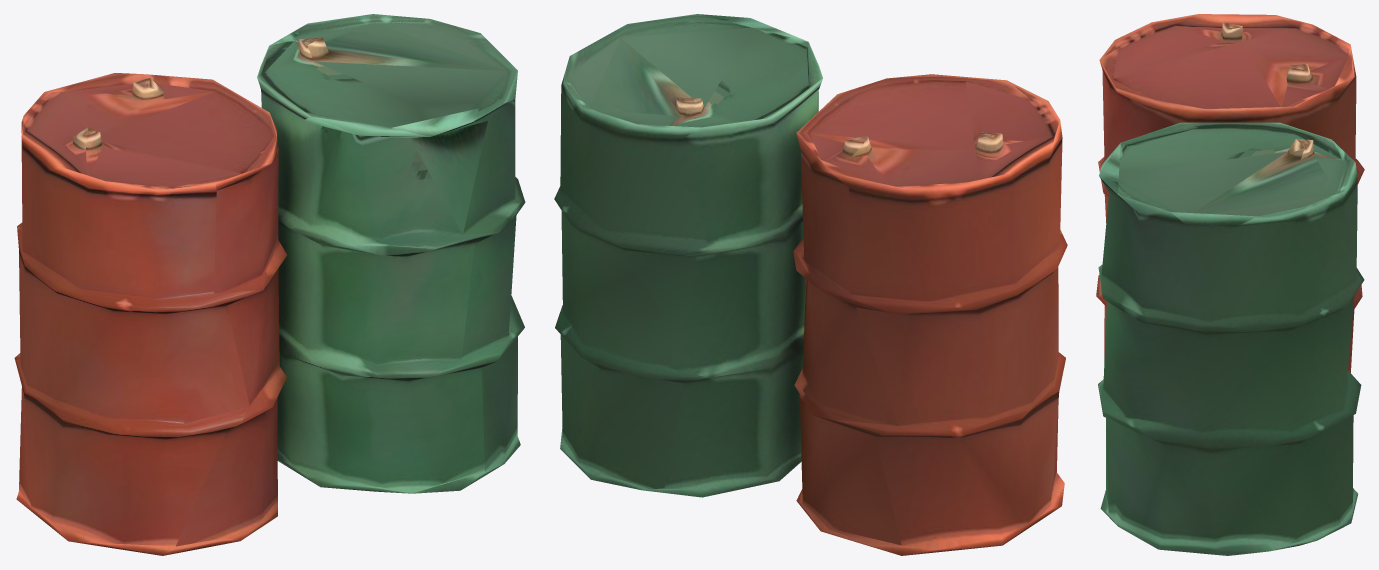
The model's file is oil-drums.glb.
3 renders of one model, left to right at view 1: azimuth 30°, elevation 25°; view 2: azimuth 150°, elevation 25°; view 3: azimuth 270°, elevation 25°, orthographic. The views are drawn at different scales.
Visible parts, largest first — view 1: SM_oil-drums; view 2: SM_oil-drums; view 3: SM_oil-drums.
Boxes of the visible parts, x1=… form: SM_oil-drums: x1=14, y1=14, x2=525, y2=555; SM_oil-drums: x1=554, y1=14, x2=1067, y2=555; SM_oil-drums: x1=1096, y1=14, x2=1364, y2=555.
Bounding box in the file's own units: 1.15 × 0.9 × 0.6278.
1 material, 1 textured.
